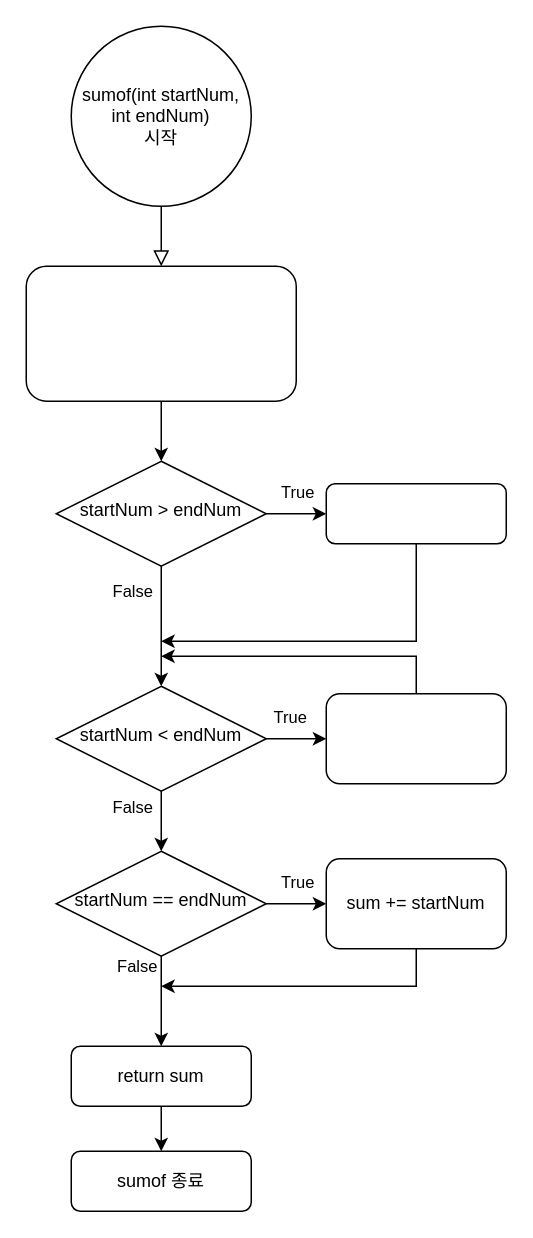
The diagram is 533 pixels wide and 1238 high, and some of its shapes have lost their labels. Here are the shapes that lost their labels. From the top down, the box of each, then its label:
(25, 265, 296, 401): int sum = 0 int addUp = startNum + endNum
(325, 482, 506, 544): swap startNum, endNum
(325, 692, 506, 784): sum += addUp startNum++ endNum--
